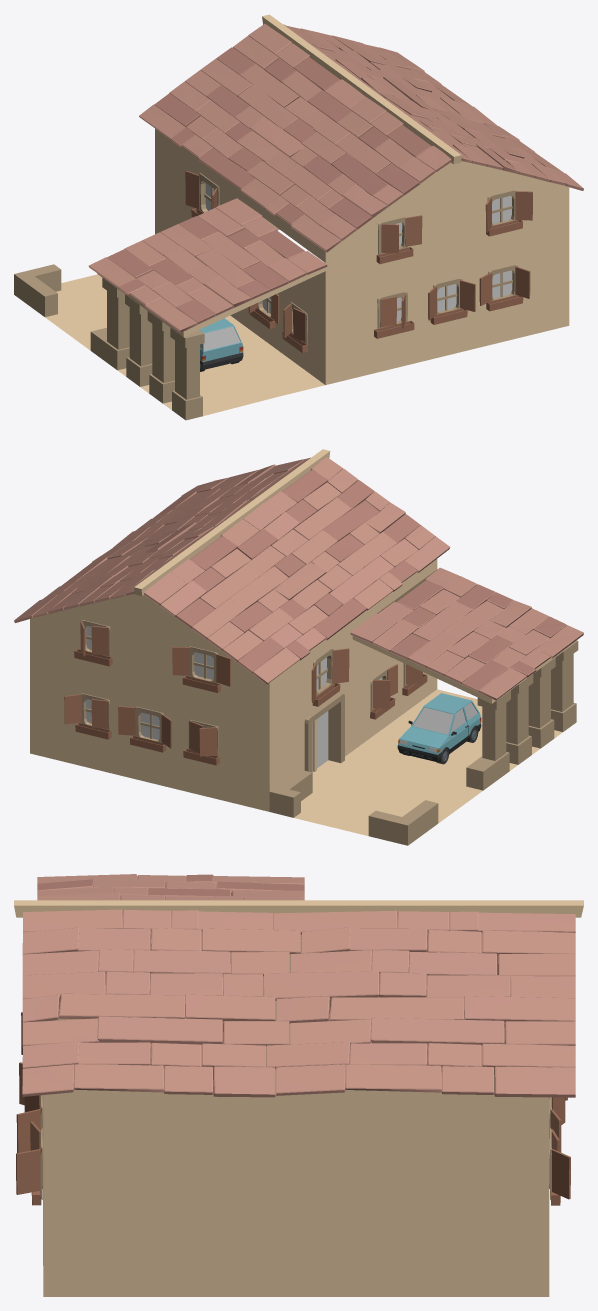
File: Maison_03.fbx
3 renders of one model, top to bottom at view 1: azimuth 30°, elevation 25°; view 2: azimuth 150°, elevation 25°; view 3: azimuth 270°, elevation 25°, orthographic. The views are drawn at different scales.
Visible parts, largest first — view 1: Maison_03; view 2: Maison_03; view 3: Maison_03.
Part boxes in pixels (x1,y1,x2,y2): Maison_03: [14, 14, 583, 420]; Maison_03: [14, 449, 583, 845]; Maison_03: [14, 874, 583, 1296].
Size of the model in its own units: 2035 by 999 by 1684.
Materials: 1 (1 with a texture image).
